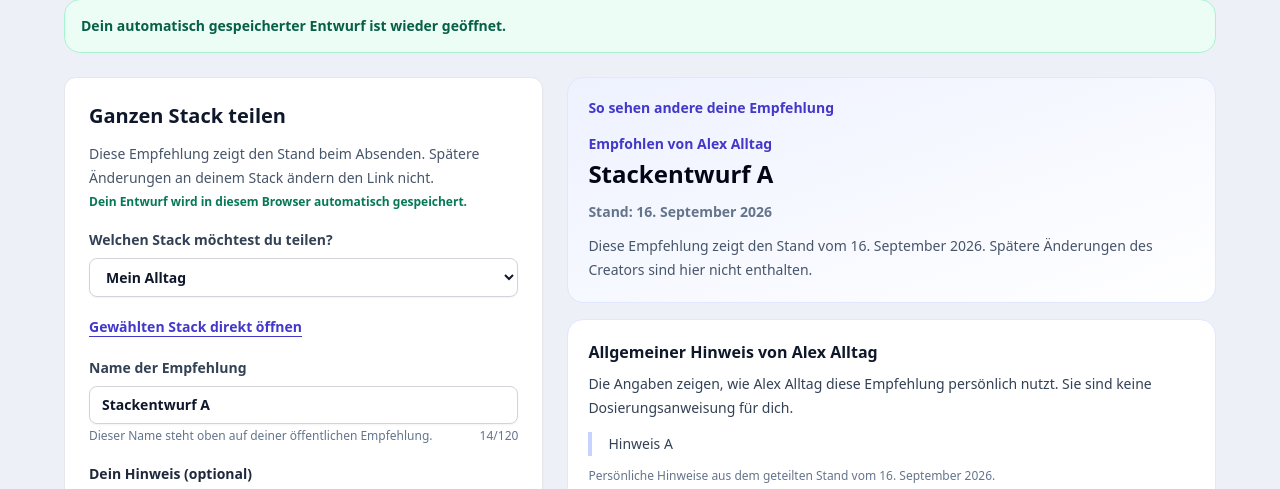
CreatorSharingPage › restores exact stack drafts on dropdown changes and does not copy one stack draft into a clean stack
The image size is (1280, 489).
(page scrolled)
Expected: the field showing "Stackentwurf A" is shown, [89, 386, 518, 424]
Select "Stack B" in the dropdown labelled "Welchen Stack möchtest du teilen?". click: (304, 278)
box: [89, 258, 518, 297]
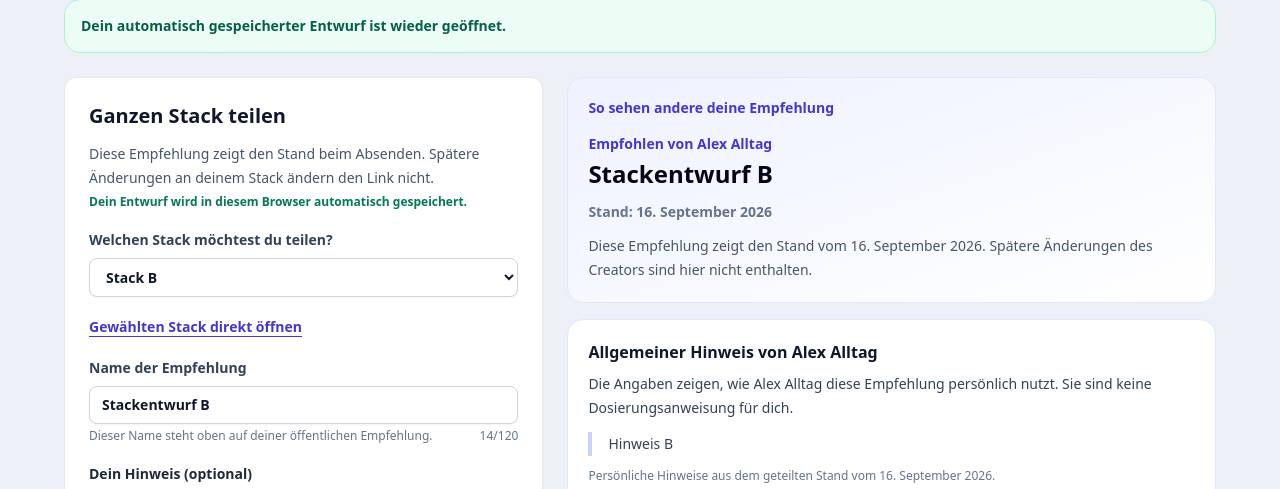
Result: the field showing "Stackentwurf B" is shown at [89, 386, 518, 424]
Result: the heading "Stackentwurf B" is shown at [588, 158, 773, 190]
Select "Stack C" in the dropdown labelled "Welchen Stack möchtest du teilen?". click: (304, 278)
box: [89, 258, 518, 297]
(page scrolled)
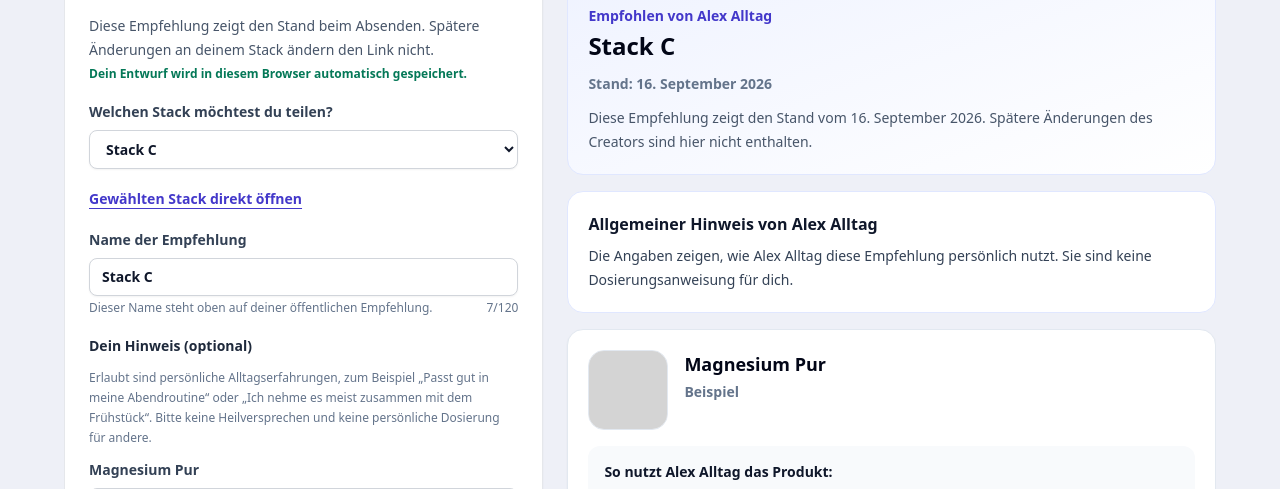
Result: the field labelled "Name der Empfehlung" holds "Stack C" at [89, 258, 518, 296]
